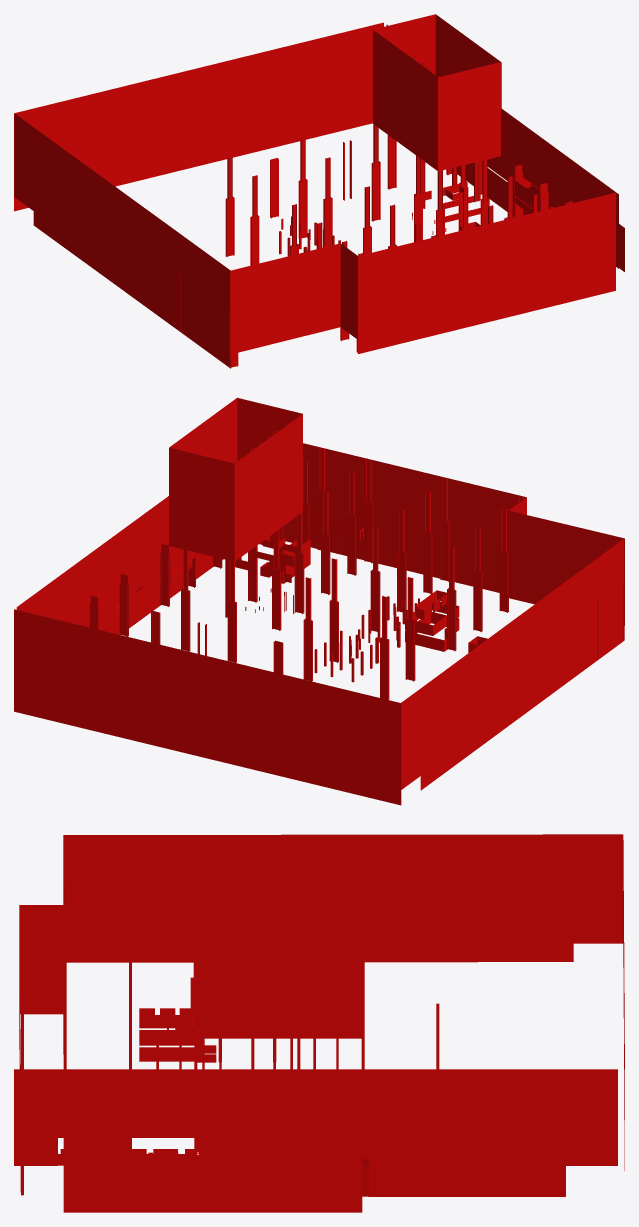
The picture shows the model from 3 angles, top to bottom: view 1: azimuth 30°, elevation 25°; view 2: azimuth 150°, elevation 25°; view 3: azimuth 270°, elevation 25°; orthographic projection. The views are drawn at different scales.
Parts seen in each view (by area): view 1: 00; view 2: 00; view 3: 00.
Boxes of the visible parts, box(x1,y1,x2,y2) form: 00: box(14, 14, 624, 368); 00: box(14, 397, 624, 805); 00: box(14, 834, 624, 1212).
Size of the model in its own units: 13985 by 6469 by 14383.
